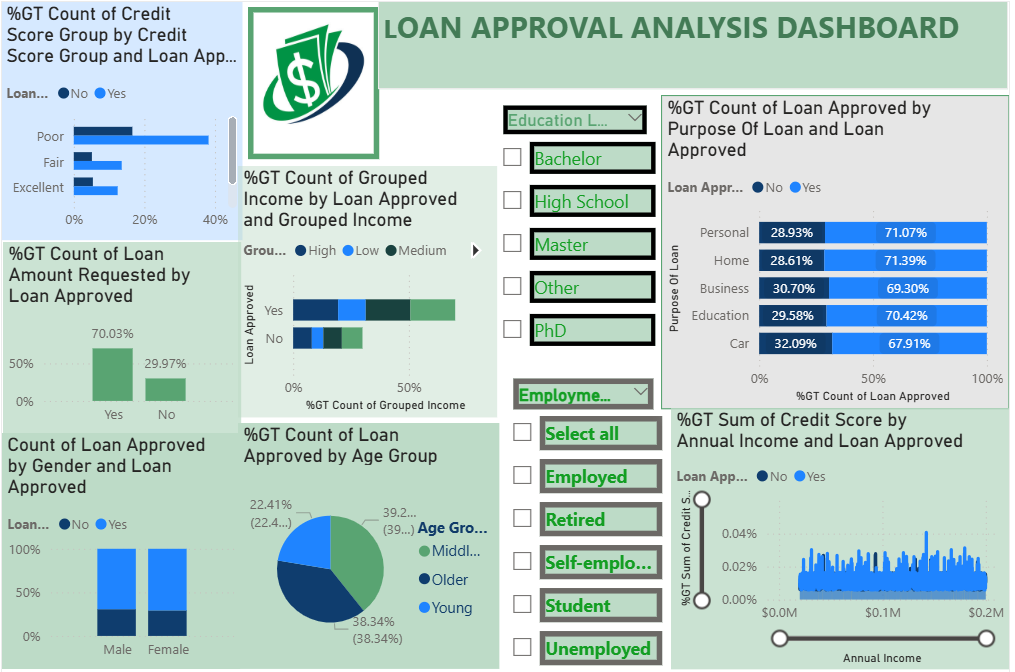

What the dashboard file says about the page in this screenshot:
{"tool":"powerbi","page":{"name":"Page 1","canvas":[1280,720],"ordinal":0},"visuals":[{"type":"image","box":[322.9,65.5,118.8,137.8],"z":0,"group":"g1"},{"type":"group","id":"g1","title":"Group 1","box":[98.8,60.1,915.1,611.2],"z":0},{"type":"clusteredColumnChart","fields":{"Category":["LOAD DATASET.Loan Approved"],"Y":["Sum(LOAD DATASET.Loan Amount Requested)"]},"box":[100.8,278.6,215.8,174.1],"z":1000,"group":"g1"},{"type":"hundredPercentStackedColumnChart","fields":{"Category":["LOAD DATASET.Gender"],"Series":["LOAD DATASET.Loan Approved"],"Y":["CountNonNull(LOAD DATASET.Loan Approved)"]},"box":[99.9,451.8,215.8,214],"z":2000,"group":"g1"},{"type":"slicer","fields":{"Values":["LOAD DATASET.Employment Status"]},"box":[550.5,397.4,153.2,273.9],"z":4000,"group":"g1"},{"type":"slicer","fields":{"Values":["LOAD DATASET.Education Level"]},"box":[541.5,149.9,156,235.8],"z":5000,"group":"g1"},{"type":"hundredPercentStackedBarChart","fields":{"Category":["LOAD DATASET.Purpose Of Loan"],"Series":["LOAD DATASET.Loan Approved"],"Y":["Divide(CountNonNull(LOAD DATASET.Loan Approved), ScopedEval(CountNonNull(LOAD DATASET.Loan Approved), []))"]},"box":[697.4,145.3,316.5,284.7],"z":6000,"group":"g1"},{"type":"clusteredBarChart","fields":{"Category":["LOAD DATASET.Credit Score Group"],"Y":["CountNonNull(LOAD DATASET.Credit Score Group)"],"Series":["LOAD DATASET.Loan Approved"]},"box":[98.8,60.8,219,215.7],"z":8000,"group":"g1"},{"type":"stackedAreaChart","fields":{"Category":["LOAD DATASET.Annual Income"],"Y":["Divide(Sum(LOAD DATASET.Credit Score), ScopedEval(Sum(LOAD DATASET.Credit Score), []))"],"Series":["LOAD DATASET.Loan Approved"]},"box":[706.5,429.2,307.4,236.7],"z":9000,"group":"g1"},{"type":"textbox","box":[440.8,60.1,571.3,79.8],"z":10000,"group":"g1"},{"type":"pieChart","fields":{"Category":["LOAD DATASET.Age Group"],"Y":["CountNonNull(LOAD DATASET.Loan Approved)"]},"box":[313.9,442.8,236.7,223.1],"z":11000,"group":"g1"},{"type":"barChart","fields":{"Category":["LOAD DATASET.Loan Approved"],"Series":["LOAD DATASET.Grouped Income"],"Y":["CountNonNull(LOAD DATASET.Grouped Income)"]},"box":[313.9,209.7,234.9,227.6],"z":12000,"group":"g1"}]}

Visuals, with their boxes on the page's 1280x720 design canvas (x1, y1, x2, y2). These are canvas units, not pixel positions in the 1015x672 screenshot, which may show the page scaled, cropped or inside an application window:
image: bbox=(323, 66, 442, 203)
"Group 1" group: bbox=(99, 60, 1014, 671)
clusteredColumnChart - LOAD DATASET.Loan Approved x Sum(LOAD DATASET.Loan Amount Requested): bbox=(101, 279, 317, 453)
hundredPercentStackedColumnChart - LOAD DATASET.Gender x LOAD DATASET.Loan Approved: bbox=(100, 452, 316, 666)
slicer - LOAD DATASET.Employment Status: bbox=(550, 397, 704, 671)
slicer - LOAD DATASET.Education Level: bbox=(542, 150, 698, 386)
hundredPercentStackedBarChart - LOAD DATASET.Purpose Of Loan x LOAD DATASET.Loan Approved: bbox=(697, 145, 1014, 430)
clusteredBarChart - LOAD DATASET.Credit Score Group x CountNonNull(LOAD DATASET.Credit Score Group): bbox=(99, 61, 318, 276)
stackedAreaChart - LOAD DATASET.Annual Income x Divide(Sum(LOAD DATASET.Credit Score), ScopedEval(Sum(LOAD DATASET.Credit Score), [])): bbox=(706, 429, 1014, 666)
textbox: bbox=(441, 60, 1012, 140)
pieChart - LOAD DATASET.Age Group x CountNonNull(LOAD DATASET.Loan Approved): bbox=(314, 443, 551, 666)
barChart - LOAD DATASET.Loan Approved x LOAD DATASET.Grouped Income: bbox=(314, 210, 549, 437)
